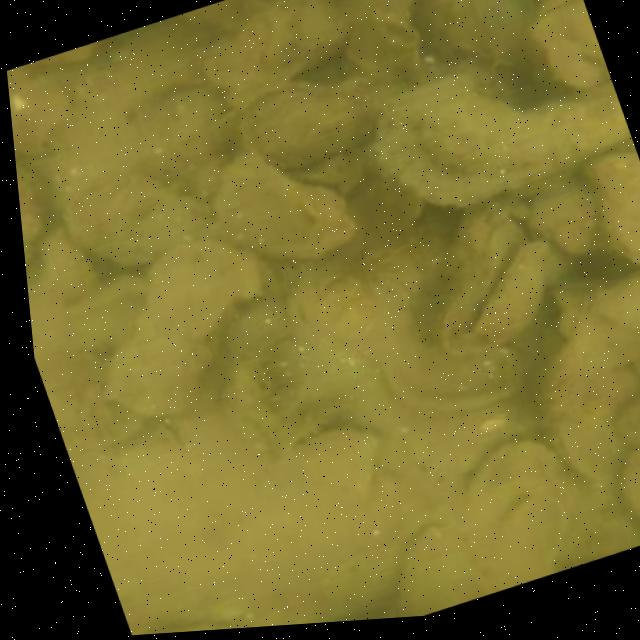Oyster-Closed: (363, 12, 437, 78)
Oyster-Indeterminate: (371, 77, 627, 207), (105, 237, 250, 416), (205, 154, 358, 261), (538, 318, 640, 477), (204, 0, 346, 99), (435, 205, 522, 352), (68, 172, 203, 266), (376, 331, 519, 411), (244, 85, 377, 166), (397, 523, 496, 618), (529, 172, 620, 260), (476, 243, 546, 345), (275, 421, 380, 489), (591, 156, 640, 265), (7, 64, 66, 150), (527, 24, 601, 87), (563, 512, 640, 568), (580, 269, 640, 326), (16, 162, 43, 262), (614, 396, 640, 444), (622, 446, 640, 515)
